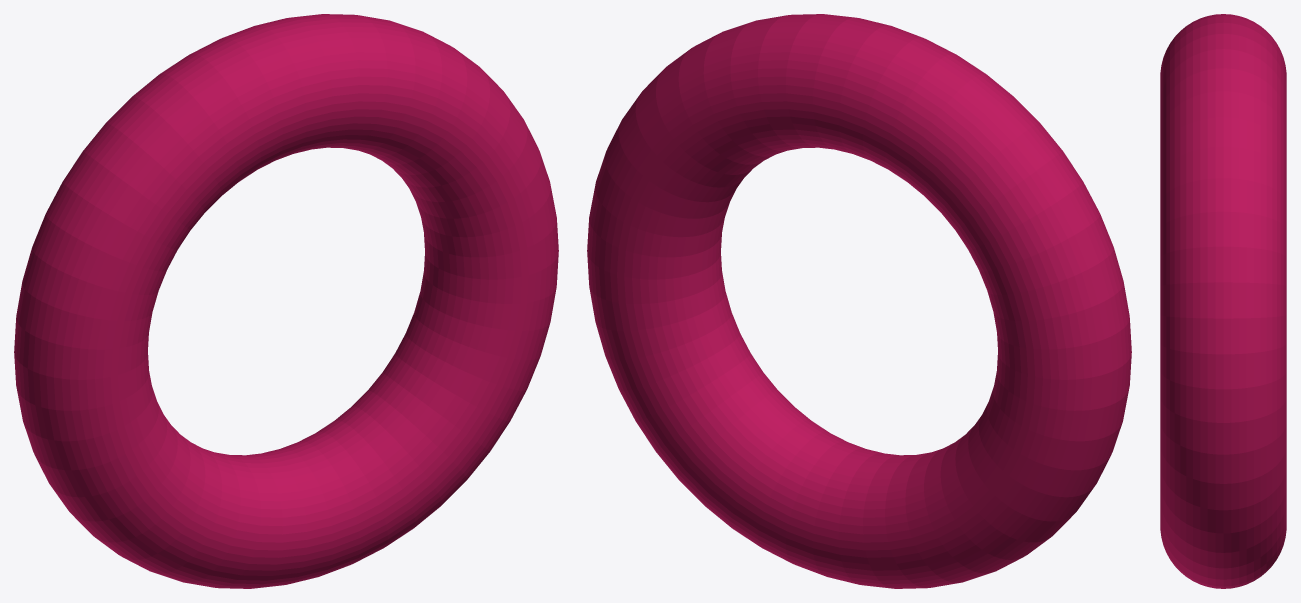
The picture shows the model from 3 angles, left to right: view 1: azimuth 30°, elevation 25°; view 2: azimuth 150°, elevation 25°; view 3: azimuth 270°, elevation 25°; orthographic projection. The views are drawn at different scales.
Parts seen in each view (by area): view 1: world; view 2: world; view 3: world.
Part boxes in pixels (x1,y1,x2,y2): world: [14, 14, 558, 588]; world: [587, 14, 1131, 588]; world: [1160, 14, 1286, 588].
Size of the model in its own units: 33.33 by 33.27 by 7.32.
